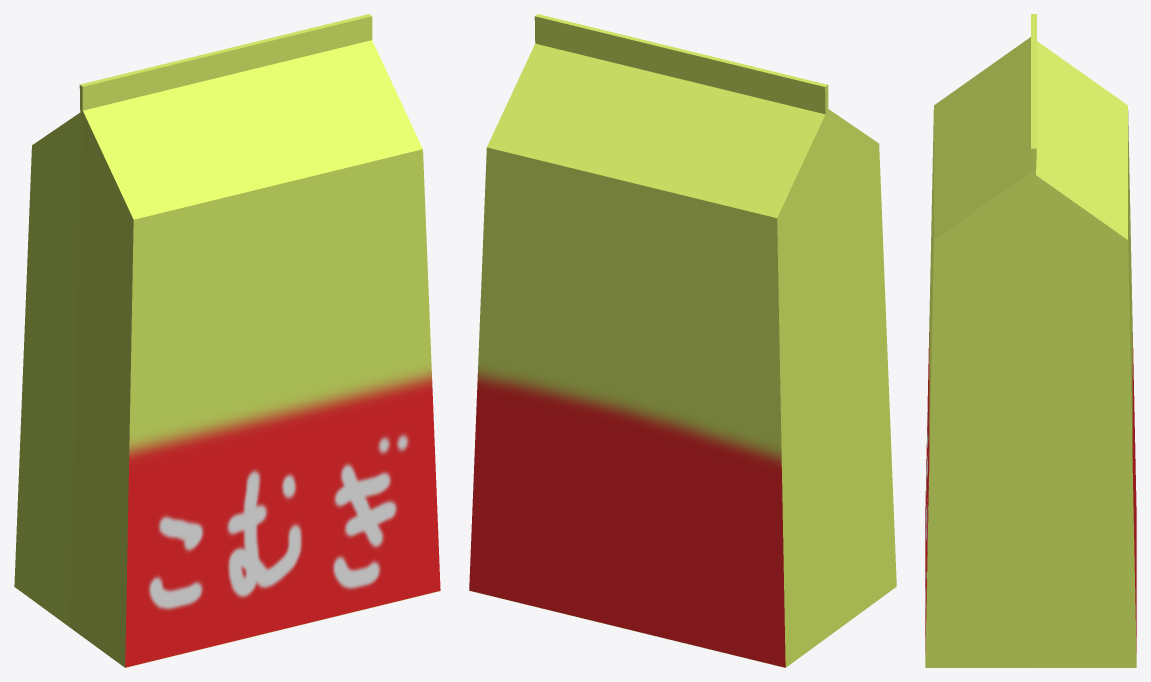
File: flour.fbx
3 views of the same model, side by side, from view 1: azimuth 30°, elevation 25°; view 2: azimuth 150°, elevation 25°; view 3: azimuth 270°, elevation 25° (orthographic). The views are drawn at different scales.
Parts seen in each view (by area): view 1: Cube; view 2: Cube; view 3: Cube.
Boxes of the visible parts, x1,y1,x2,y2 form: Cube: (14, 14, 440, 667); Cube: (469, 14, 896, 667); Cube: (925, 14, 1136, 667).
Bounding box in the file's own units: 11.65 × 18.97 × 7.09.
1 material, 1 textured.
